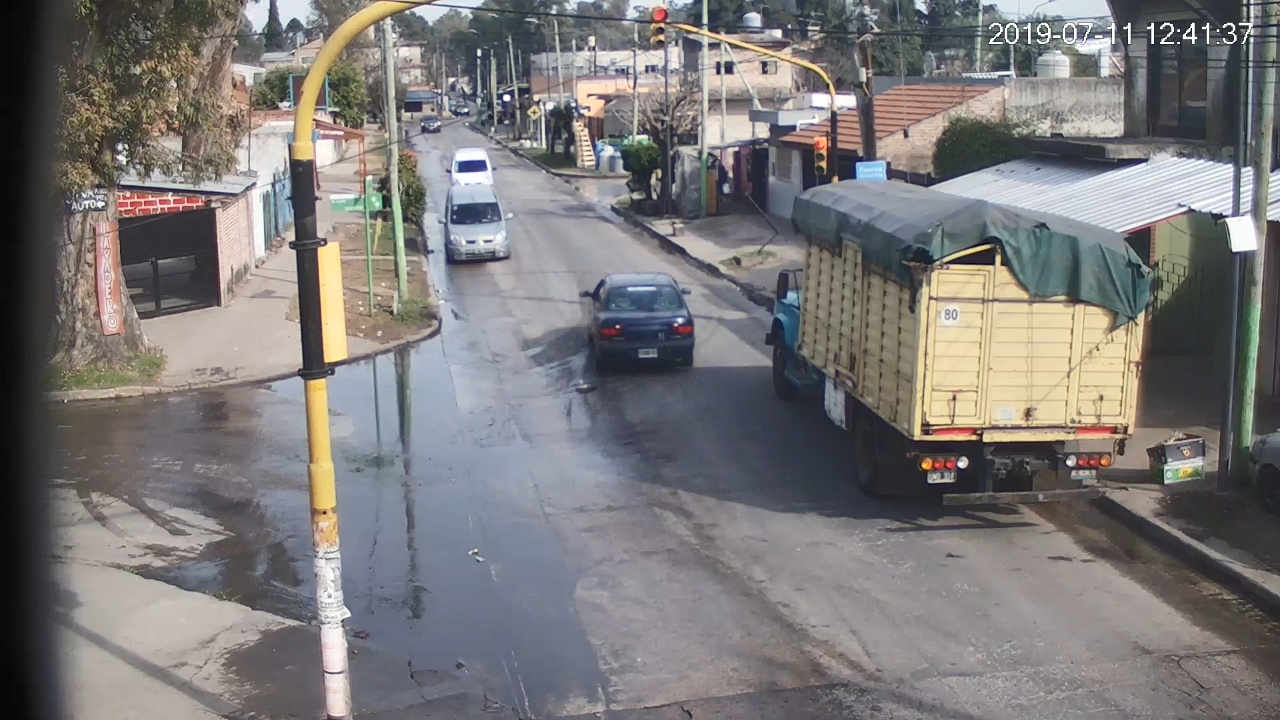car: (580, 272, 695, 367)
traffic light: (651, 7, 666, 48), (814, 138, 827, 175)
truck: (765, 179, 1154, 507)
